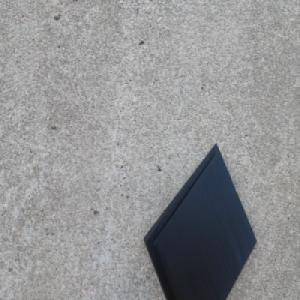PlasticPart: (142, 141, 258, 300)
